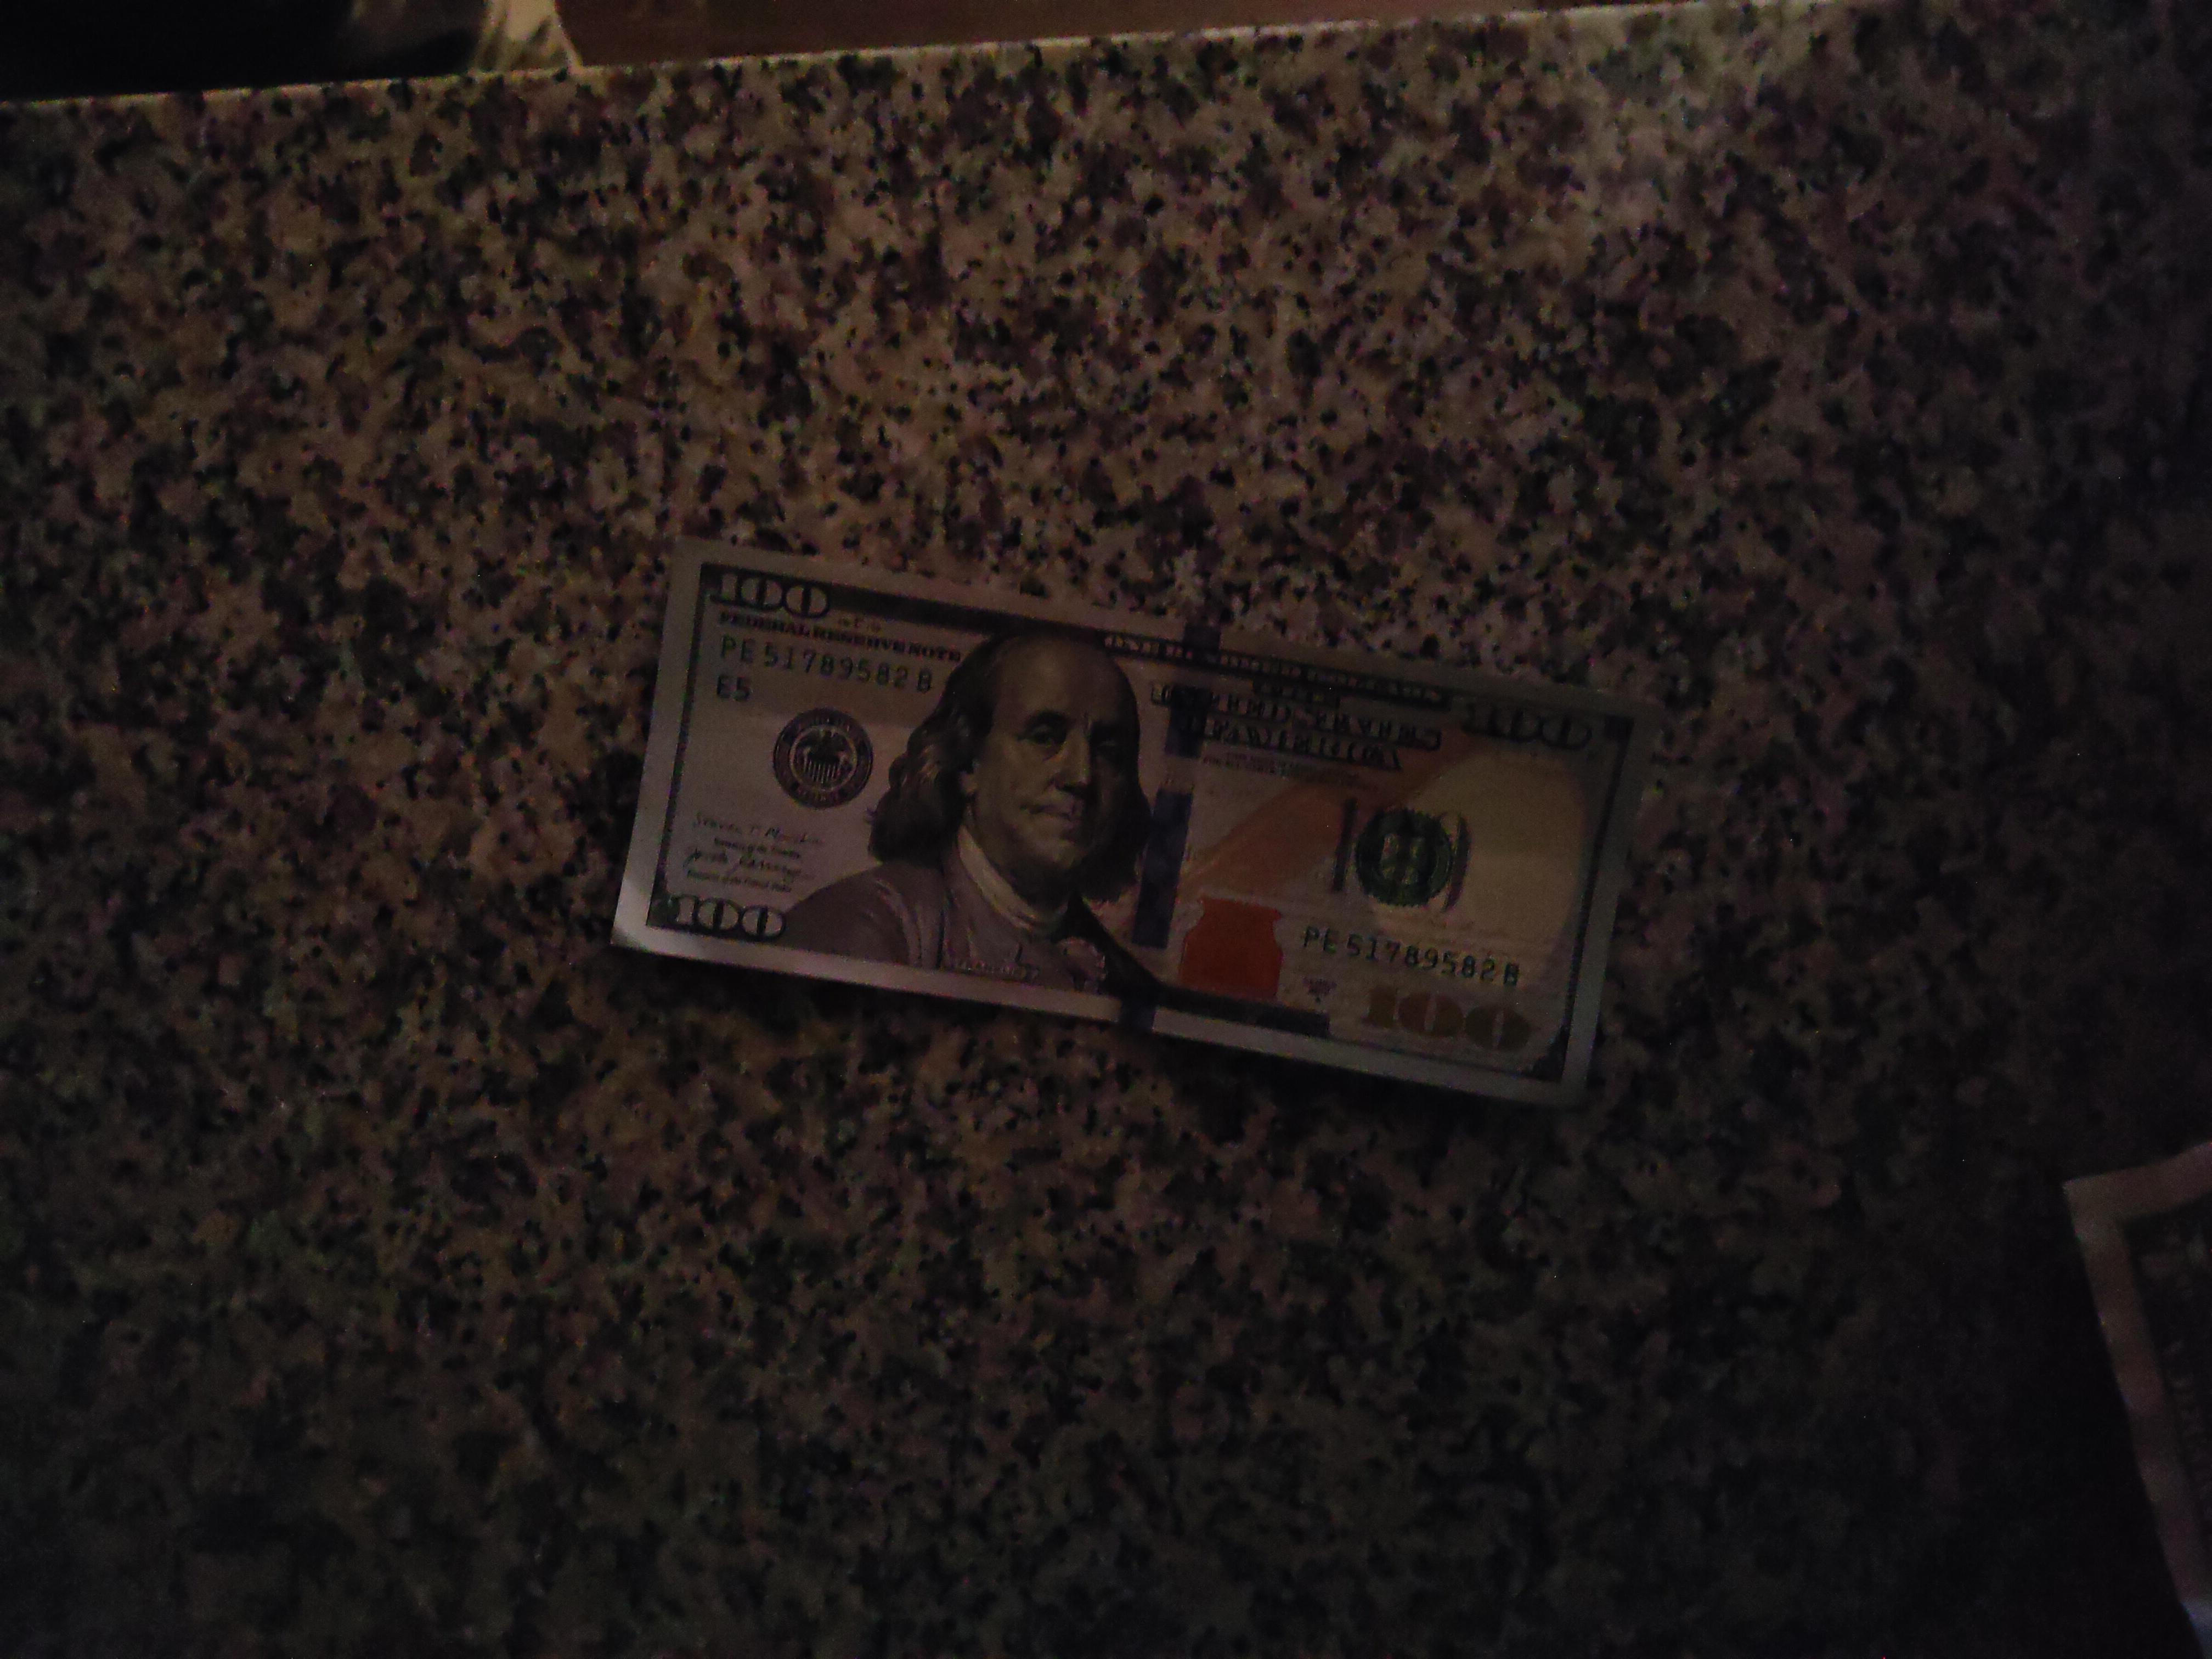HundredBill: (610, 532, 1660, 1119)
